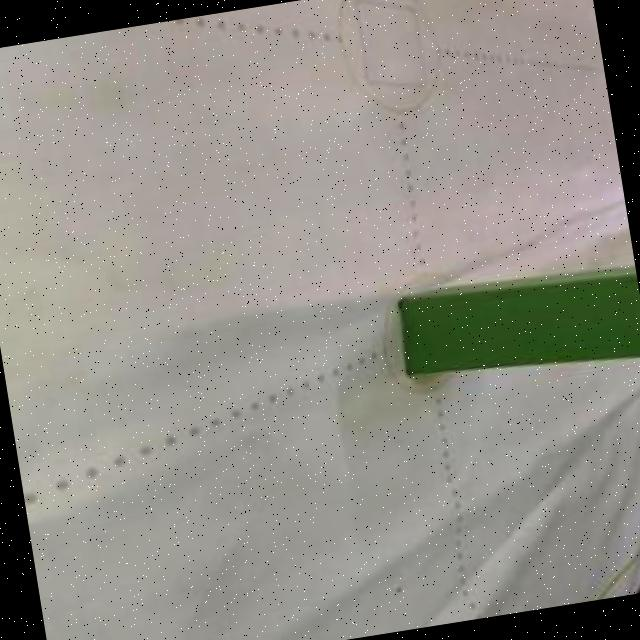greenbox: (392, 257, 640, 396)
